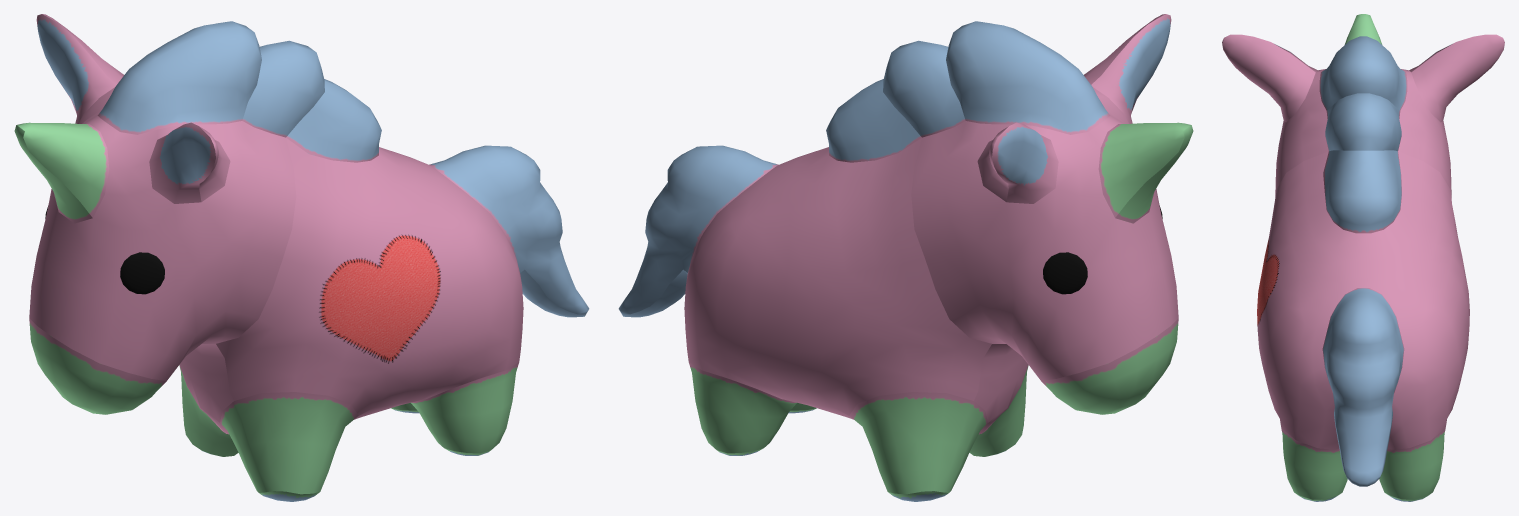
The picture shows the model from 3 angles, left to right: view 1: azimuth 30°, elevation 25°; view 2: azimuth 150°, elevation 25°; view 3: azimuth 270°, elevation 25°; orthographic projection. The views are drawn at different scales.
Parts seen in each view (by area): view 1: Plush Unicorn; view 2: Plush Unicorn; view 3: Plush Unicorn.
Part boxes in pixels (<box>): Plush Unicorn: <box>14,14,589,501</box>; Plush Unicorn: <box>618,14,1193,501</box>; Plush Unicorn: <box>1222,14,1504,501</box>.
Bounding box in the file's own units: 0.4233 × 0.3262 × 0.2304.
1 material, 1 textured.
